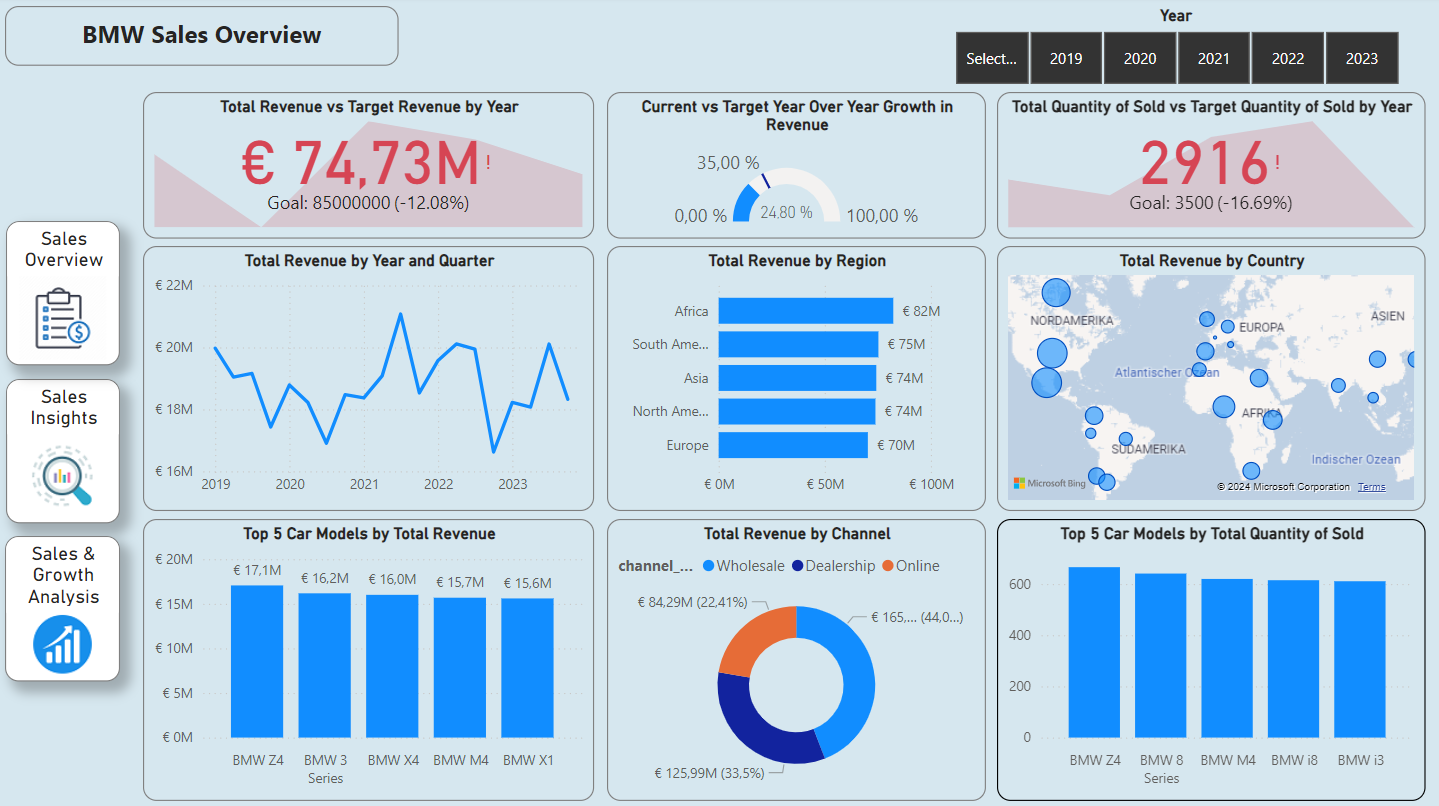

What the dashboard file says about the page in this screenshot:
{"tool":"powerbi","page":{"name":"BMW Sales Overview","canvas":[1280,720],"ordinal":0},"visuals":[{"type":"textbox","box":[7,8,348.7,53],"z":0},{"type":"lineChart","title":"Total Revenue by Year and Quarter","fields":{"Y":["Sum(sales_fact.revenue)"],"Category":["date_dim.date.Variation.Date Hierarchy.Year","date_dim.date.Variation.Date Hierarchy.Quarter","date_dim.date.Variation.Date Hierarchy.Month","date_dim.date.Variation.Date Hierarchy.Day"]},"box":[129.9,220.8,399.7,234.8],"z":1000},{"type":"clusteredColumnChart","title":"Top 5 Car Models by Total Revenue","fields":{"Y":["Sum(sales_fact.revenue)"],"Category":["model_dim.model_name"]},"box":[129.9,462.6,399.7,249.8],"z":2000},{"type":"donutChart","title":"Total Revenue by Channel","fields":{"Y":["Sum(sales_fact.revenue)"],"Category":["channel_dim.channel_name"]},"box":[540.6,462.6,335.7,249.8],"z":3000},{"type":"clusteredBarChart","title":"Total Revenue by Region","fields":{"Y":["Sum(sales_fact.revenue)"],"Category":["region_dim.region_name"]},"box":[540.6,220.8,335.7,234.8],"z":4000},{"type":"map","title":"Total Revenue by Country","fields":{"Category":["country_dim.country_name"],"Size":["Sum(sales_fact.revenue)"]},"box":[886.3,220.8,379.7,234.8],"z":5000},{"type":"slicer","title":"Year","fields":{"Values":["date_dim.date.Variation.Date Hierarchy.Year"]},"box":[824.4,8,441.7,75.9],"z":6000},{"type":"clusteredColumnChart","title":"Top 5 Car Models by Total Quantity of Sold","fields":{"Category":["model_dim.model_name"],"Y":["Sum(sales_fact.quantity_sold)"]},"box":[886.3,462.6,379.7,249.8],"z":7000},{"type":"kpi","title":"Total Revenue vs Target Revenue by Year","fields":{"TrendLine":["date_dim.date.Variation.Date Hierarchy.Year"],"Indicator":["Sum(sales_fact.revenue)"],"Goal":["sales_fact.Target Revenue"]},"box":[129.9,83.9,399.7,129.9],"z":8000},{"type":"gauge","title":"Current vs Target  Year Over Year Growth in Revenue","fields":{"MinValue":["sales_fact.Min YoY Growth"],"MaxValue":["sales_fact.Max YoY Growth"],"TargetValue":["sales_fact.Target YoY Growth"],"Y":["sales_fact.YoYGrowth"]},"box":[540.6,83.9,335.7,129.9],"z":9000},{"type":"kpi","title":"Total Quantity of Sold vs Target Quantity of Sold by Year","fields":{"Indicator":["Sum(sales_fact.quantity_sold)"],"TrendLine":["date_dim.date.Variation.Date Hierarchy.Year"],"Goal":["sales_fact.Target Quantity of Sold"]},"box":[886.3,83.9,379.7,129.9],"z":10000},{"type":"actionButton","title":"Sales Insights","box":[8,338.7,100.9,127.9],"z":11000},{"type":"actionButton","title":"Sales Overview","box":[8,198.8,101,128],"z":12000},{"type":"actionButton","title":"Sales & Growth Analysis","box":[7,477.6,101.9,128.9],"z":13000}]}

Visuals, with their boxes in screenshot pixels (x1, y1, x2, y2), scaled from the page's 1280x720 canvas onto the 1439x806 screenshot:
textbox: left=8, top=9, right=400, bottom=68
"Total Revenue by Year and Quarter" lineChart: left=146, top=247, right=595, bottom=510
"Top 5 Car Models by Total Revenue" clusteredColumnChart: left=146, top=518, right=595, bottom=797
"Total Revenue by Channel" donutChart: left=608, top=518, right=985, bottom=797
"Total Revenue by Region" clusteredBarChart: left=608, top=247, right=985, bottom=510
"Total Revenue by Country" map: left=996, top=247, right=1423, bottom=510
"Year" slicer: left=927, top=9, right=1423, bottom=94
"Top 5 Car Models by Total Quantity of Sold" clusteredColumnChart: left=996, top=518, right=1423, bottom=797
"Total Revenue vs Target Revenue by Year" kpi: left=146, top=94, right=595, bottom=239
"Current vs Target  Year Over Year Growth in Revenue" gauge: left=608, top=94, right=985, bottom=239
"Total Quantity of Sold vs Target Quantity of Sold by Year" kpi: left=996, top=94, right=1423, bottom=239
"Sales Insights" actionButton: left=9, top=379, right=122, bottom=522
"Sales Overview" actionButton: left=9, top=223, right=123, bottom=366
"Sales & Growth Analysis" actionButton: left=8, top=535, right=122, bottom=679
